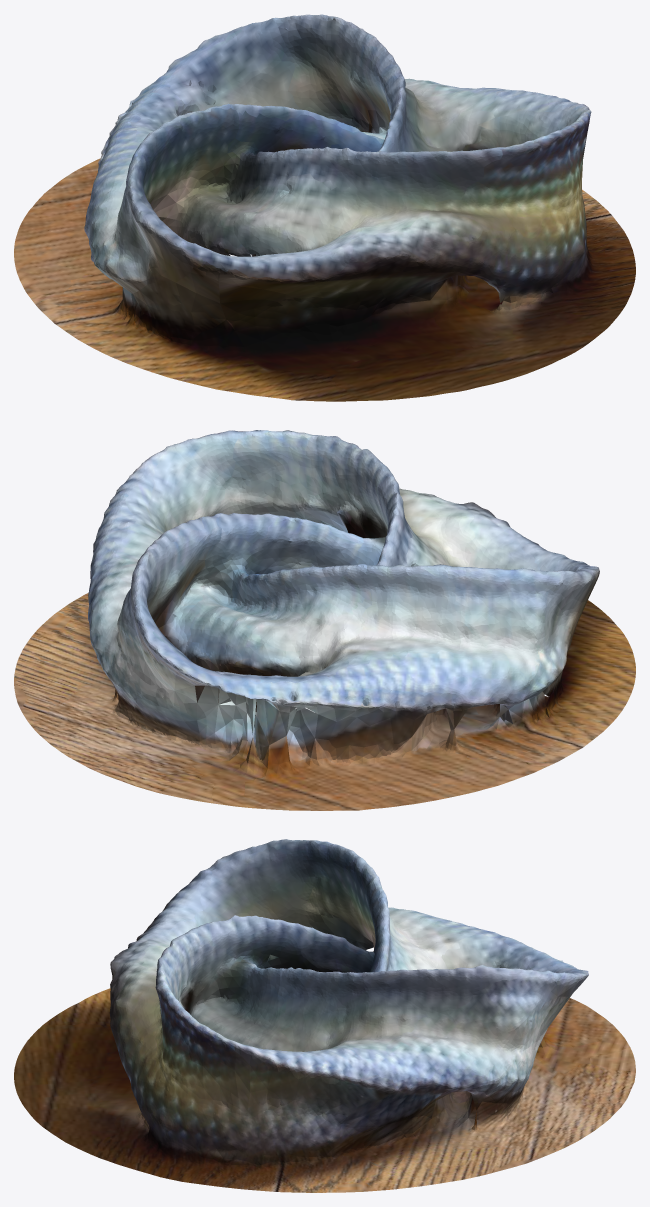
Rendered from work02.glb.
3 renders of one model, top to bottom at view 1: azimuth 30°, elevation 25°; view 2: azimuth 150°, elevation 25°; view 3: azimuth 270°, elevation 25°, orthographic. The views are drawn at different scales.
Visible parts, largest first — view 1: mesh; view 2: mesh; view 3: mesh.
Part boxes in pixels (x1=…): mesh: x1=14, y1=14, x2=635, y2=401; mesh: x1=14, y1=430, x2=635, y2=810; mesh: x1=14, y1=839, x2=635, y2=1192.
Bounding box in the file's own units: 0.1781 × 0.0534 × 0.1917.
1 material, 1 textured.
